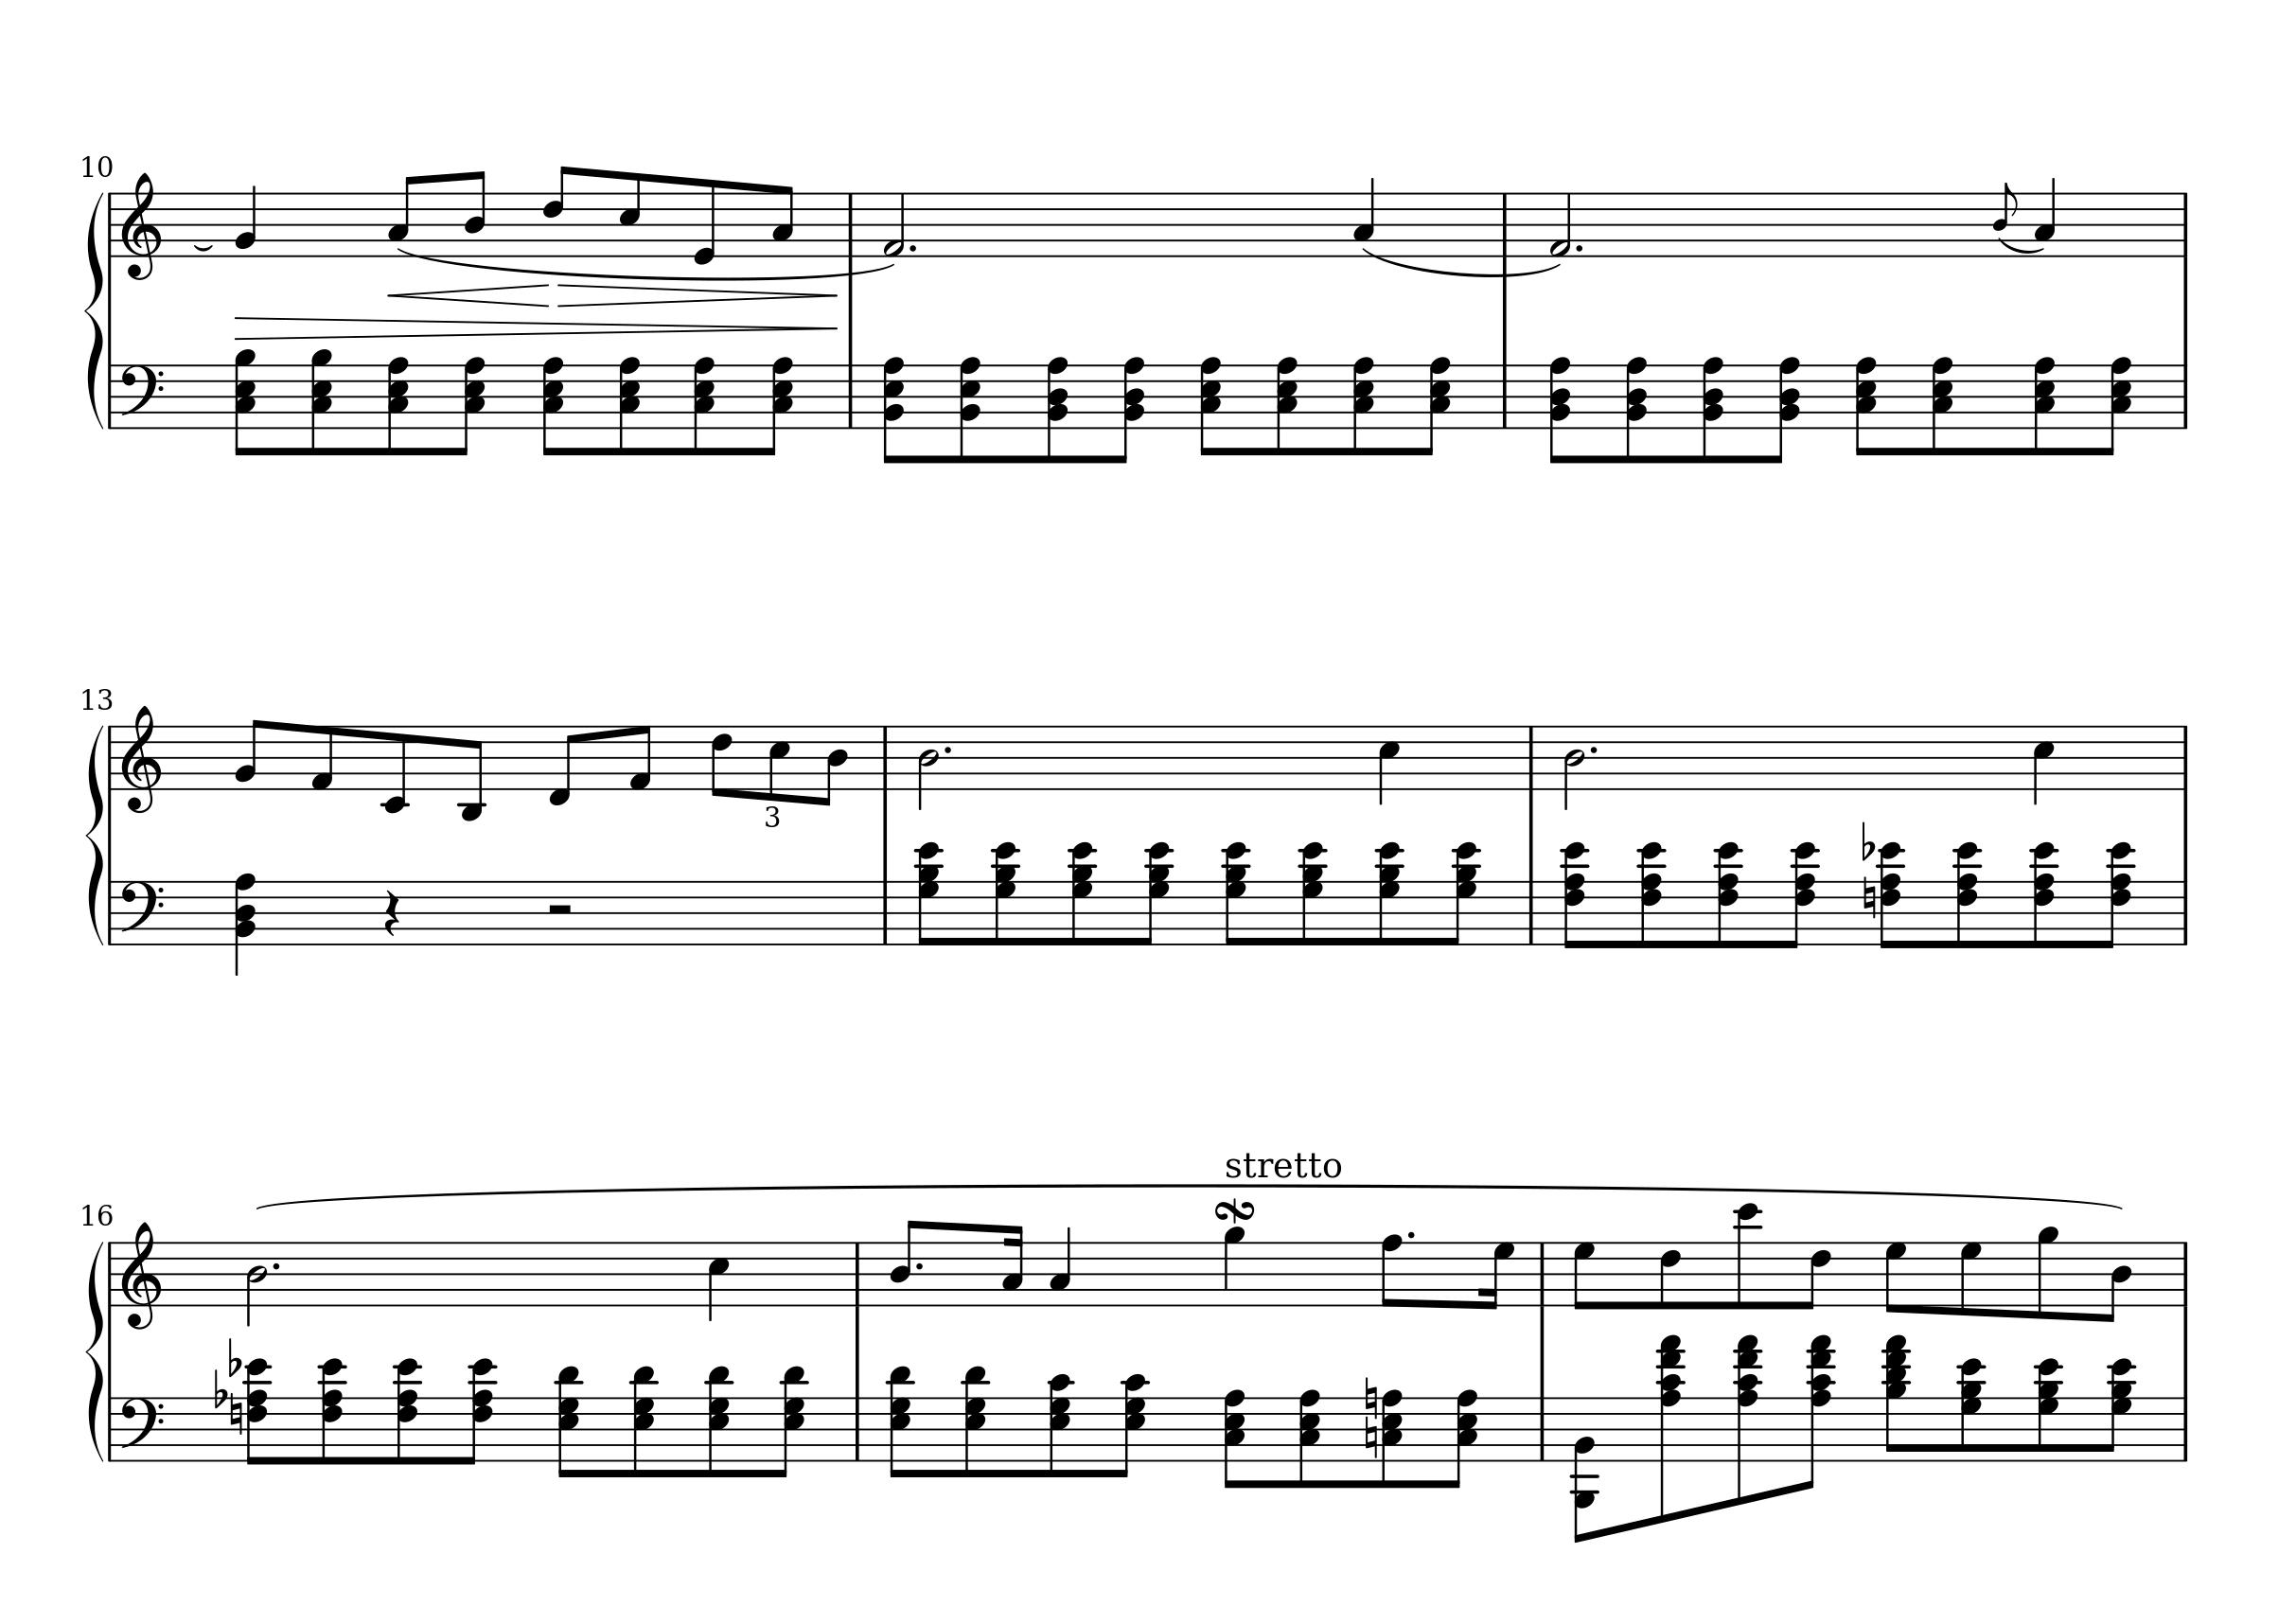0: (95, 151, 112, 179)
1: (79, 1200, 93, 1227), (81, 153, 93, 179), (81, 685, 93, 712)
16_3: (1000, 1223, 1024, 1308)
16_7: (1481, 1239, 1516, 1309)
2_1: (1548, 190, 1574, 260), (884, 190, 908, 258)
2_4: (244, 1239, 271, 1329), (1562, 722, 1586, 812), (917, 724, 940, 810)
3: (762, 803, 782, 828), (97, 685, 112, 710)
4_2: (234, 183, 258, 258)
4_3: (1351, 174, 1377, 260), (2034, 176, 2059, 260), (1047, 1225, 1072, 1308)
4_5: (2032, 722, 2057, 807), (706, 1239, 731, 1323), (1377, 722, 1400, 807)
4_9: (1223, 1225, 1247, 1308)
4_th: (232, 872, 256, 974)
6: (97, 1200, 114, 1227)
8_-1: (546, 722, 580, 807)
8_-2: (381, 724, 409, 816)
8_-3: (458, 722, 487, 821)
8_-5_2: (1569, 1394, 1597, 1545)
8_0: (690, 178, 718, 272)
8_1: (309, 722, 336, 793), (627, 722, 653, 793)
8_12: (1736, 1200, 1762, 1311)
8_2: (235, 717, 267, 791)
8_3: (386, 174, 418, 260), (771, 183, 796, 258)
8_4: (889, 1216, 921, 1308), (817, 722, 848, 807), (2101, 1239, 2133, 1323), (462, 169, 487, 260)
8_4th: (1792, 1330, 1836, 1496), (1655, 1332, 1686, 1524), (1732, 1329, 1762, 1506), (1880, 1330, 1913, 1461)
8_5: (618, 170, 643, 260), (768, 722, 791, 803)
8_6: (541, 163, 574, 260), (1802, 1239, 1832, 1309), (710, 722, 734, 798), (1658, 1239, 1683, 1309)
8_7: (1960, 1239, 1985, 1316), (1885, 1239, 1910, 1313), (1572, 1239, 1597, 1309)
8_8: (1381, 1232, 1402, 1308)
8_9: (2036, 1223, 2061, 1320)
8_th: (2097, 838, 2136, 949), (627, 1362, 662, 1478), (1114, 352, 1149, 464), (773, 1362, 808, 1475), (959, 1360, 993, 1478), (1446, 838, 1483, 944), (1634, 838, 1669, 949), (1785, 838, 1820, 949), (1114, 1371, 1151, 1476), (462, 1355, 497, 1464), (703, 1362, 736, 1476), (1769, 353, 1804, 460), (1140, 838, 1175, 946), (987, 838, 1022, 944), (1950, 838, 1983, 949), (553, 1360, 585, 1476), (1418, 353, 1453, 457), (761, 353, 796, 457), (1444, 1385, 1479, 1489), (316, 1355, 350, 1464), (1219, 838, 1253, 946), (2103, 1355, 2136, 1461), (887, 1360, 917, 1478), (1621, 353, 1653, 464), (2029, 838, 2061, 949), (1713, 838, 1744, 947), (1560, 840, 1592, 949), (1876, 840, 1908, 949), (392, 1355, 423, 1464), (453, 352, 485, 457), (1196, 352, 1228, 457), (1374, 838, 1405, 944), (913, 840, 945, 946), (1955, 1355, 1987, 1461), (1045, 1371, 1077, 1476), (956, 353, 986, 464), (1043, 353, 1073, 464), (1546, 353, 1576, 464), (1699, 353, 1729, 462), (242, 1357, 272, 1466), (1298, 838, 1328, 944), (1068, 840, 1098, 946), (2034, 1355, 2064, 1461), (1927, 352, 1957, 453), (234, 346, 260, 457), (309, 346, 336, 457), (882, 353, 908, 464), (1274, 353, 1302, 457), (1349, 353, 1377, 457), (1296, 1387, 1325, 1487), (385, 352, 411, 455), (541, 353, 567, 457), (617, 353, 643, 457), (1852, 352, 1880, 448), (2031, 353, 2059, 450), (690, 355, 717, 457), (1223, 1387, 1249, 1487), (2105, 352, 2134, 439), (1383, 1387, 1407, 1489)
Appoggiature: (1994, 181, 2017, 260)
Brace: (84, 190, 105, 432), (84, 721, 105, 947), (84, 1237, 105, 1461)
Crescendo_hairpin: (392, 279, 552, 311)
Fclef: (118, 877, 165, 947), (118, 1394, 165, 1462), (118, 362, 163, 431)
Flat: (1859, 817, 1878, 863), (227, 1334, 242, 1378), (213, 1366, 227, 1410)
Gclef: (119, 703, 165, 814), (119, 1220, 165, 1330), (119, 169, 163, 281)
Natural: (1860, 874, 1876, 921), (228, 1388, 242, 1436), (1363, 1415, 1377, 1462), (1363, 1374, 1379, 1417)
Rests2: (545, 900, 576, 919)
Rests4: (383, 888, 402, 939)
Single_barline: (1495, 192, 1514, 267), (1532, 1241, 1553, 1306), (840, 364, 861, 427), (1495, 364, 1516, 427), (841, 192, 861, 260), (1532, 1396, 1551, 1461), (2175, 193, 2194, 257), (2175, 364, 2194, 427), (1521, 881, 1541, 944), (848, 1241, 866, 1306), (877, 726, 894, 789), (1523, 726, 1541, 789), (877, 881, 894, 944), (2175, 881, 2192, 944), (848, 1396, 866, 1459), (2177, 724, 2192, 789), (2177, 1396, 2192, 1461), (104, 724, 118, 789), (104, 1241, 118, 1306), (2178, 1241, 2192, 1306), (104, 192, 118, 255), (105, 1396, 118, 1461), (105, 364, 118, 427), (105, 881, 118, 944)
Slur: (1997, 239, 2043, 253), (190, 243, 216, 253)
Turn_Slash: (1212, 1199, 1256, 1223)
dot: (1586, 742, 1599, 758), (942, 742, 954, 756), (1405, 1227, 1418, 1241), (271, 1258, 283, 1272), (913, 1258, 926, 1272), (1574, 241, 1585, 255), (908, 241, 919, 253)
